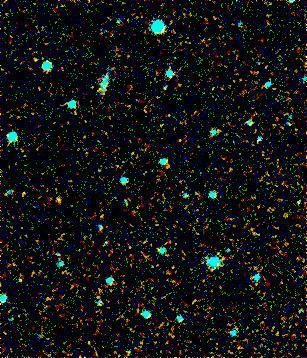star: (43, 183, 73, 213)
